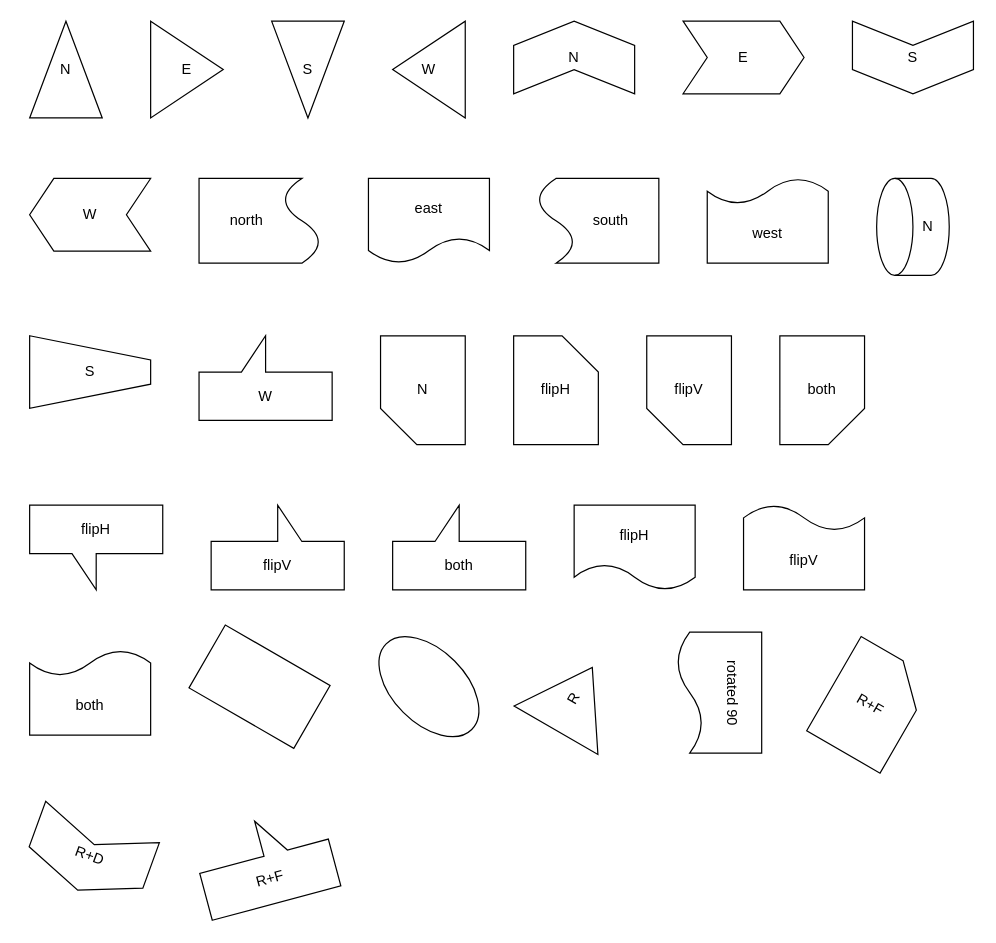
Image size: 996x943. Some labels were removed from this diagram. Each missing label, with the box of its shape:
rotation 30: (188, 624, 330, 749)
rotation 45: (359, 617, 498, 755)
